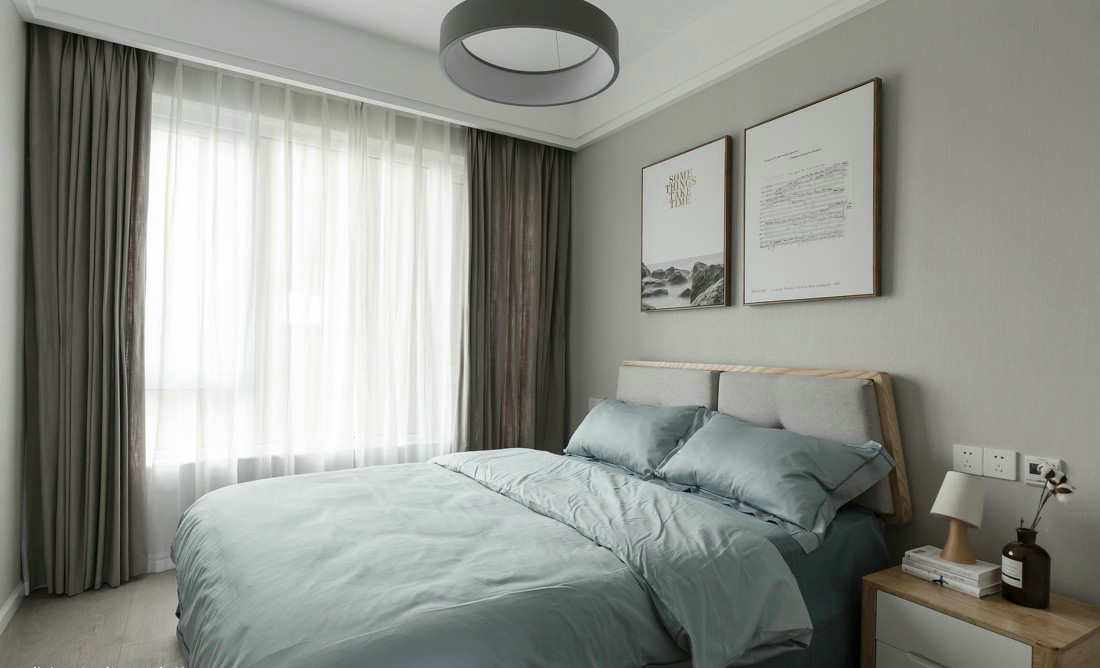床: (165, 439, 884, 665)
枕头: (578, 393, 869, 544)
灯: (429, 14, 623, 111), (921, 460, 997, 591)
